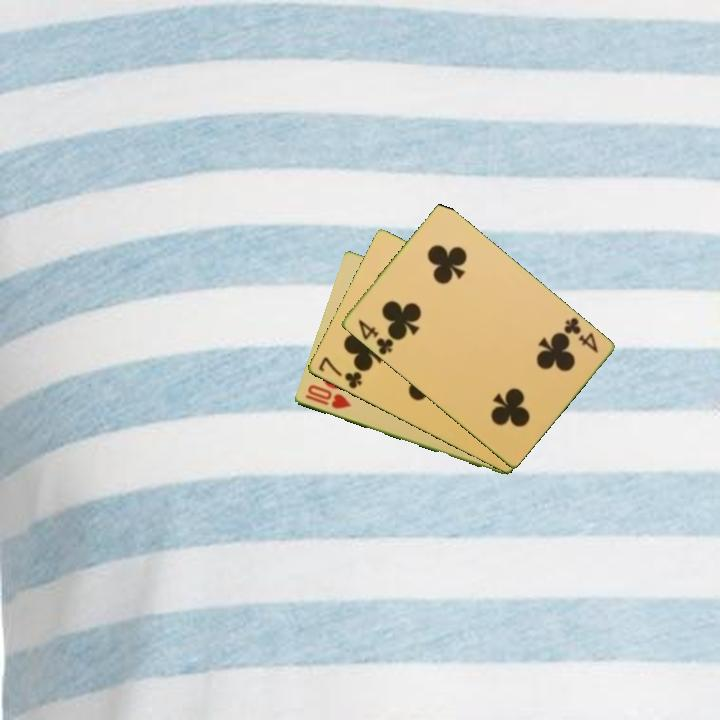10h: (301, 381, 354, 412)
4c: (354, 316, 398, 358), (560, 314, 601, 356)
7c: (314, 353, 365, 392)
